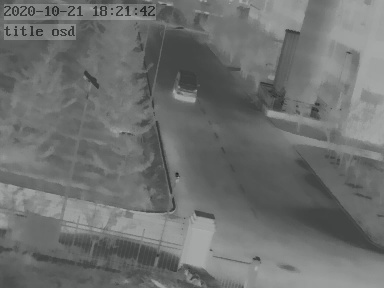vehicle: (173, 72, 199, 102)
